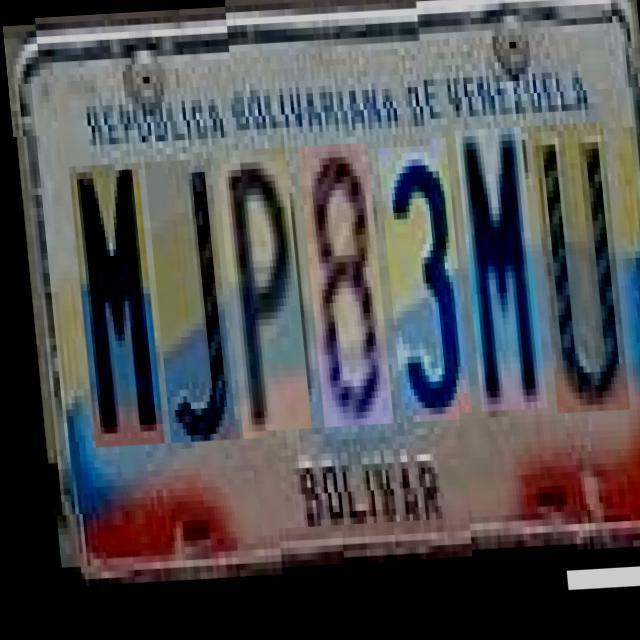3: (374, 143, 464, 421)
8: (294, 140, 384, 424)
J: (140, 148, 227, 432)
M: (64, 151, 154, 435), (452, 133, 538, 417)
P: (212, 144, 302, 428)
U: (528, 130, 622, 420)
